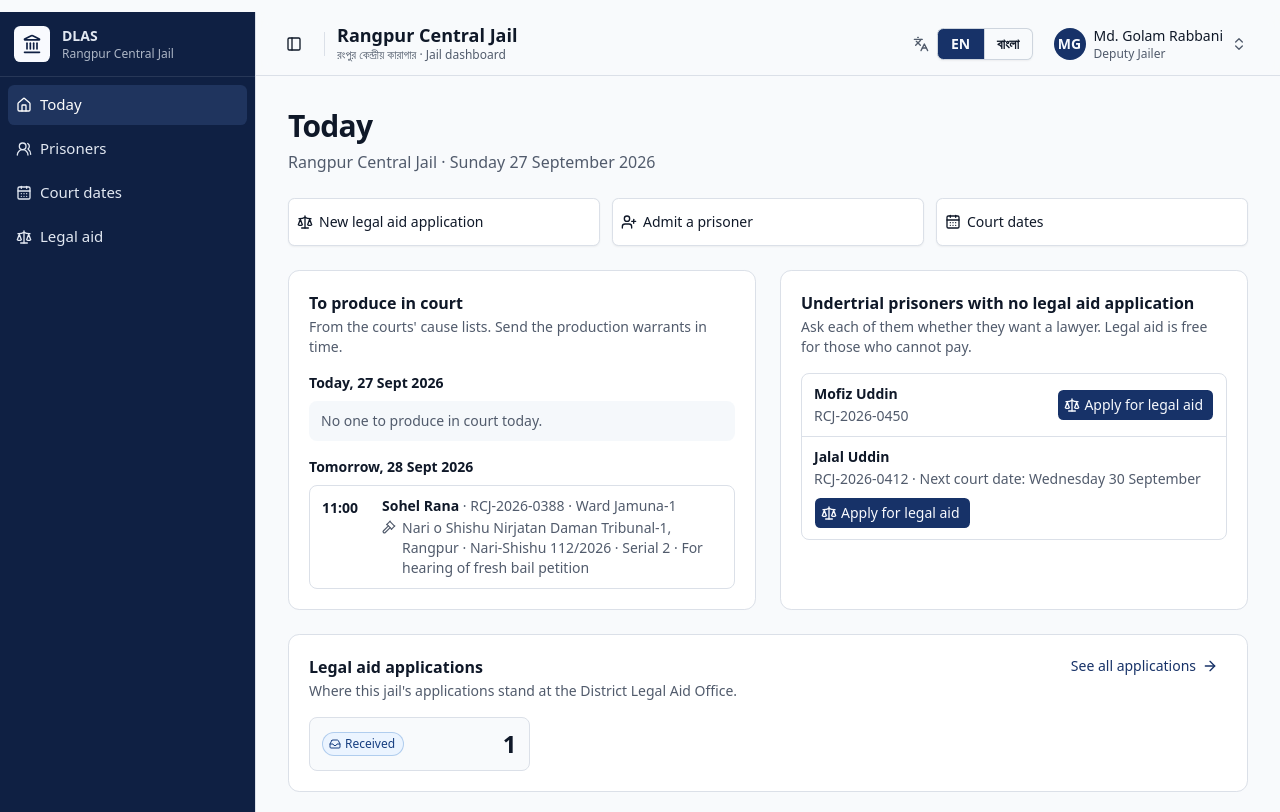
Test: signing in › shows the account menu: name, designation, jail, and signing out
Click the button with aria-label "Account menu" at (1150,44), box [1044,24,1256,64]
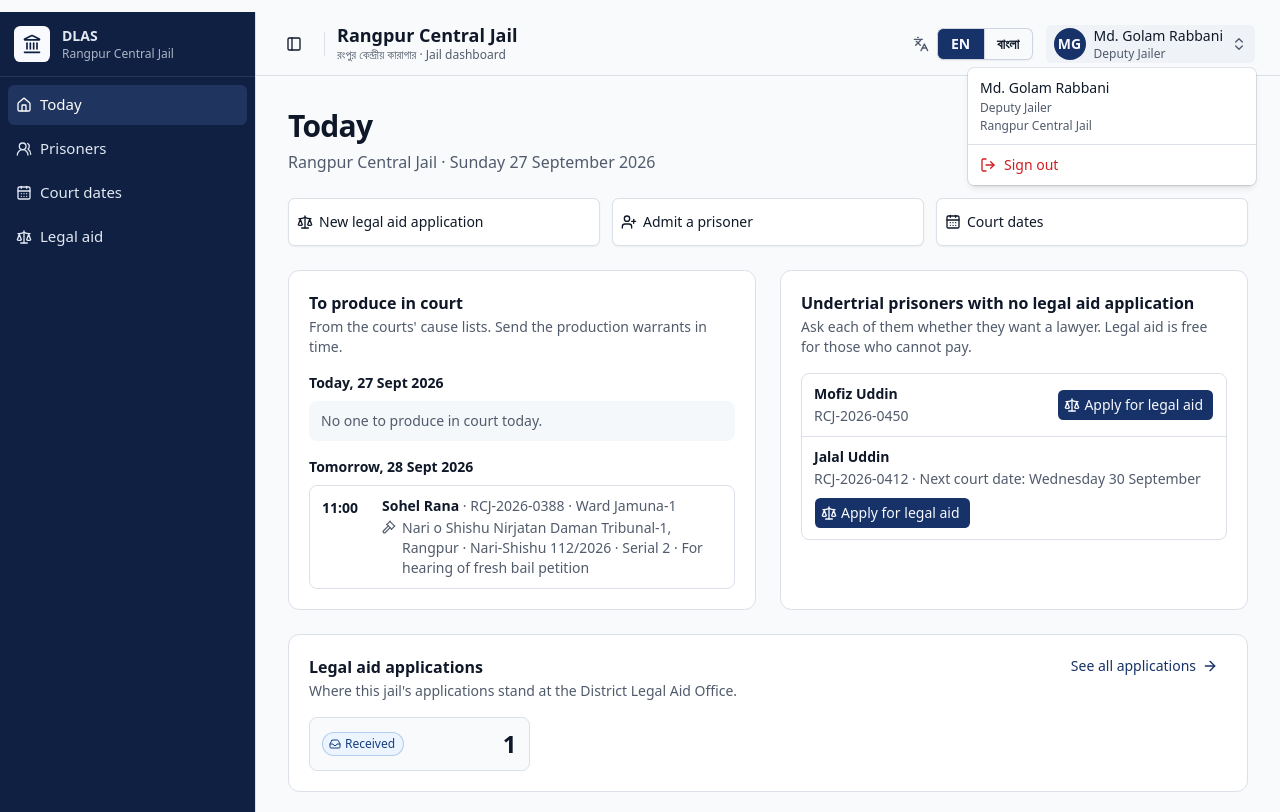
Check: the menu shows "Md. Golam Rabbani", box [980,78,1110,97]
Check: the menu shows "Deputy Jailer", box [980,99,1052,116]
Check: the menu shows "Rangpur Central Jail", box [980,117,1092,134]
Click the menu item "Sign out" at (1019,164), box [980,155,1058,174]
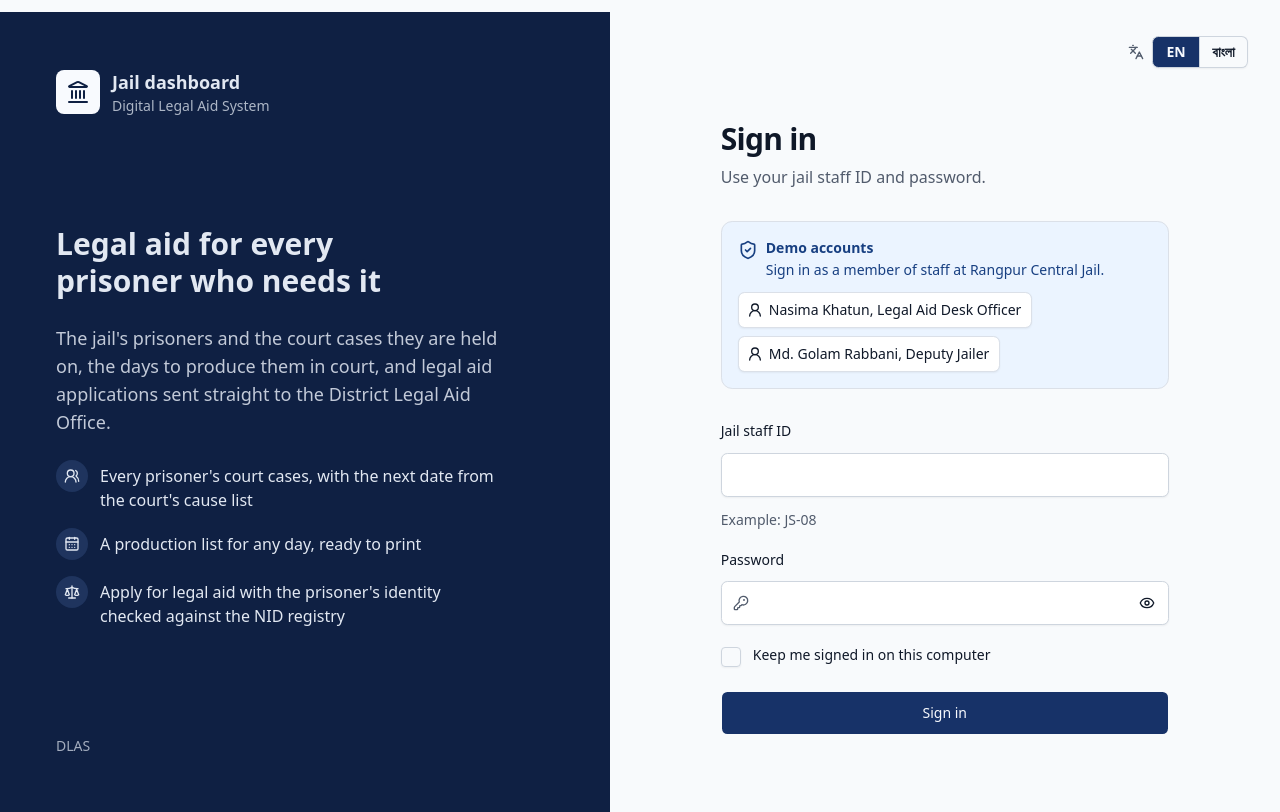
Check: the heading "Sign in" is shown, box [721,118,817,159]
